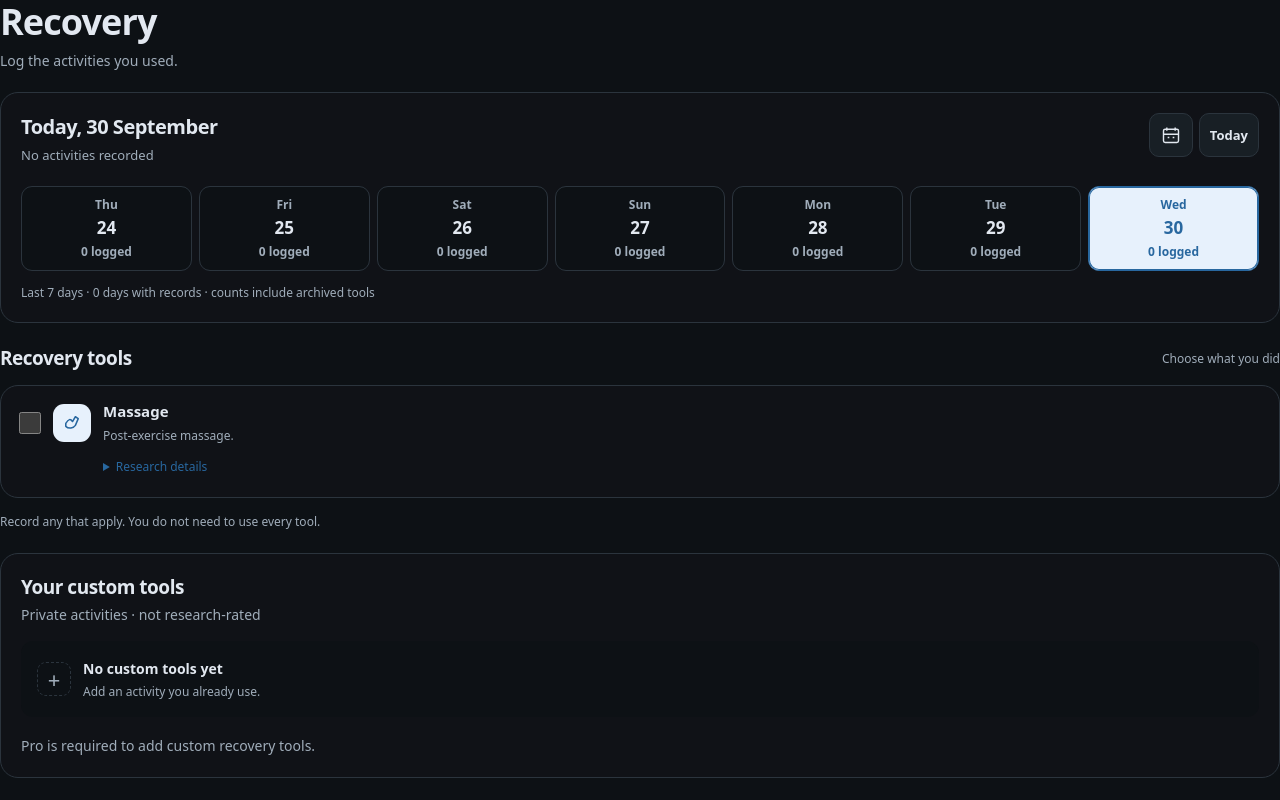
Test: Recovery › leaves a failed check-off unchanged and shows the error
What coordinates should you click on to do the following:
click the checkbox labelled "Massage"
I would click on:
 (30, 423)
Its box is 19,412 -> 41,434.
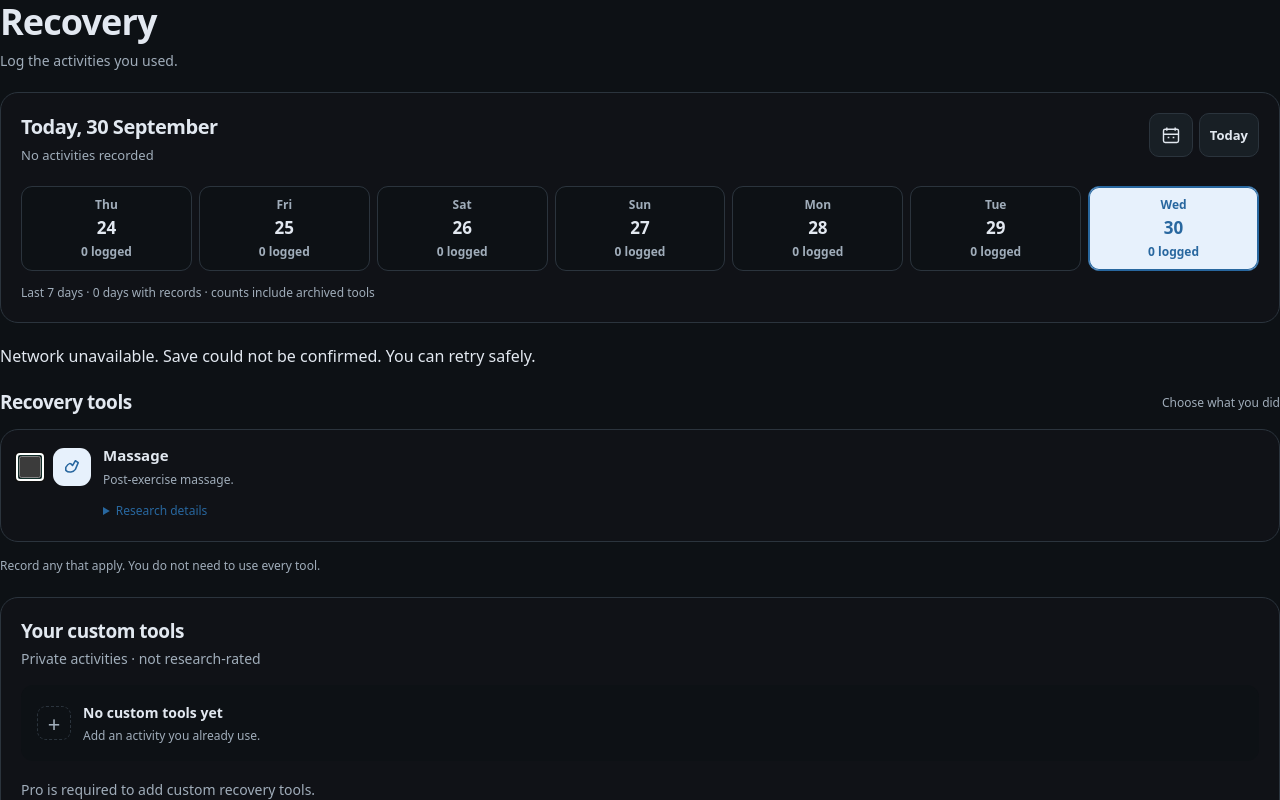
Expected: the checkbox labelled "Massage" is not checked, 19,456 -> 41,478
Now the message "Network unavailable. Save could not be confirmed. You can retry safely." is shown, box 0,345 -> 536,367
